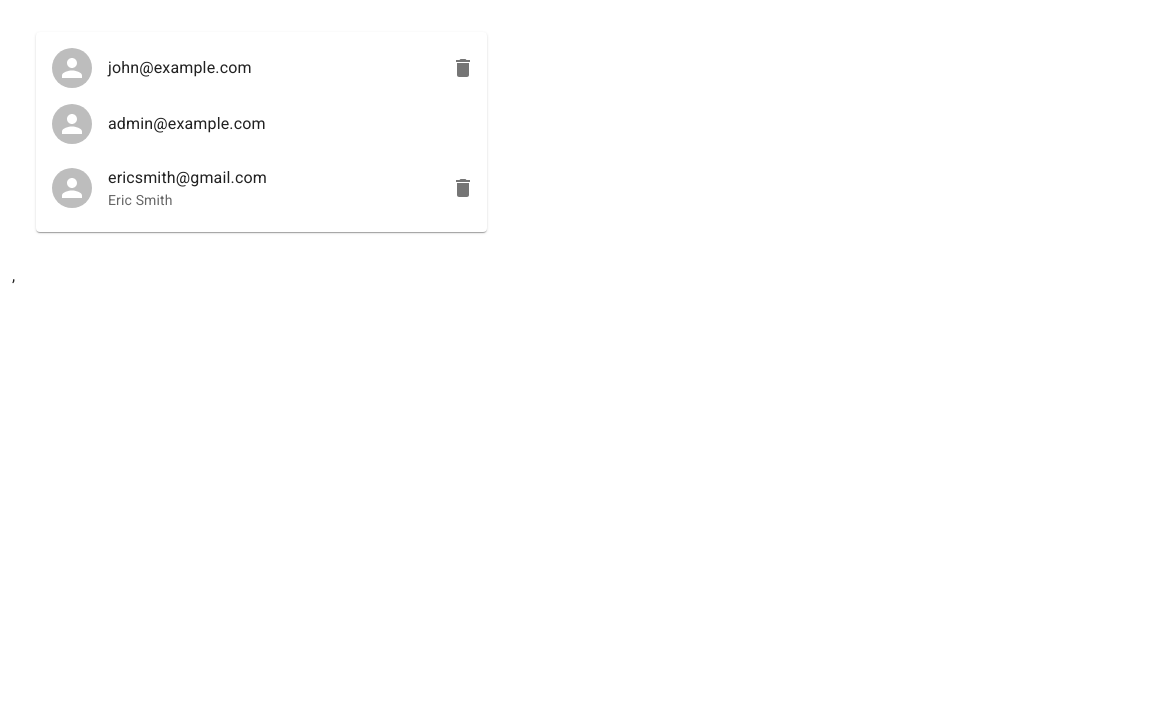
Test case: should update user info in the user list
expect the list is shown: met, box [36,32,487,232]
// select user 2
Click the button with test id "d1ba04b9-cd9f-40fe-8956-8a0198f47884" at x=159, y=188, box [52,168,267,208]
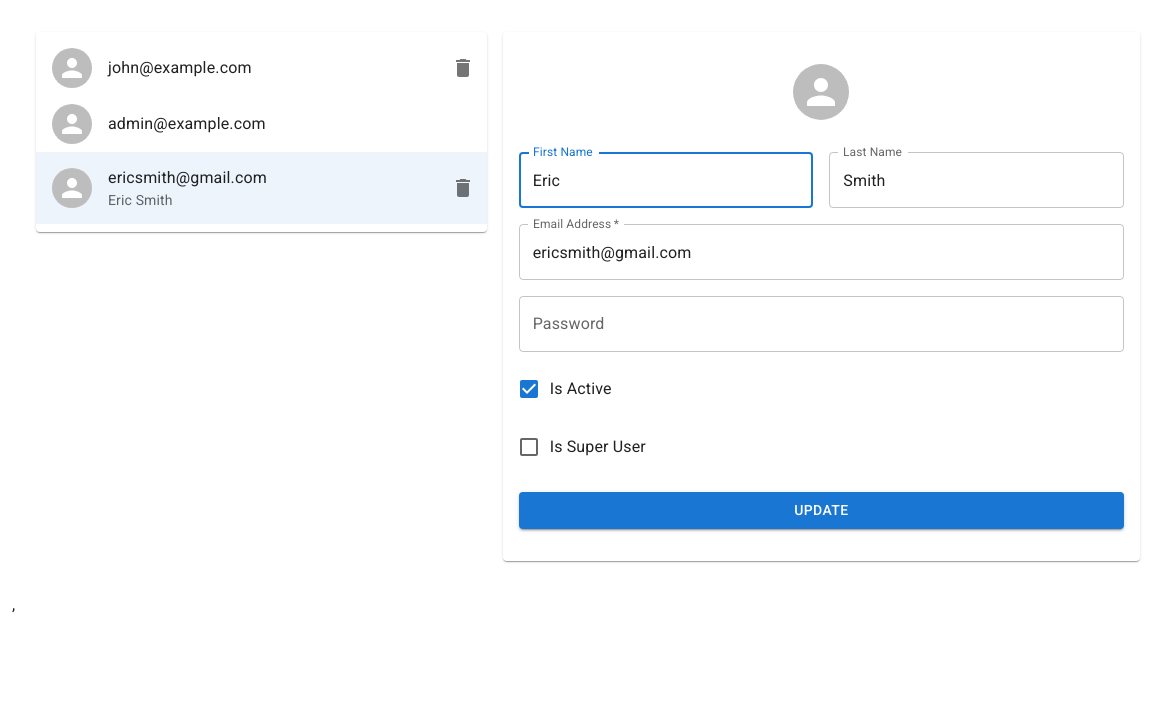
expect the field labelled "First Name" holds "Eric": met
// update its first and last name
Type "Brad" into the field labelled "First Name" at x=666, y=180, box [519,152,813,208]
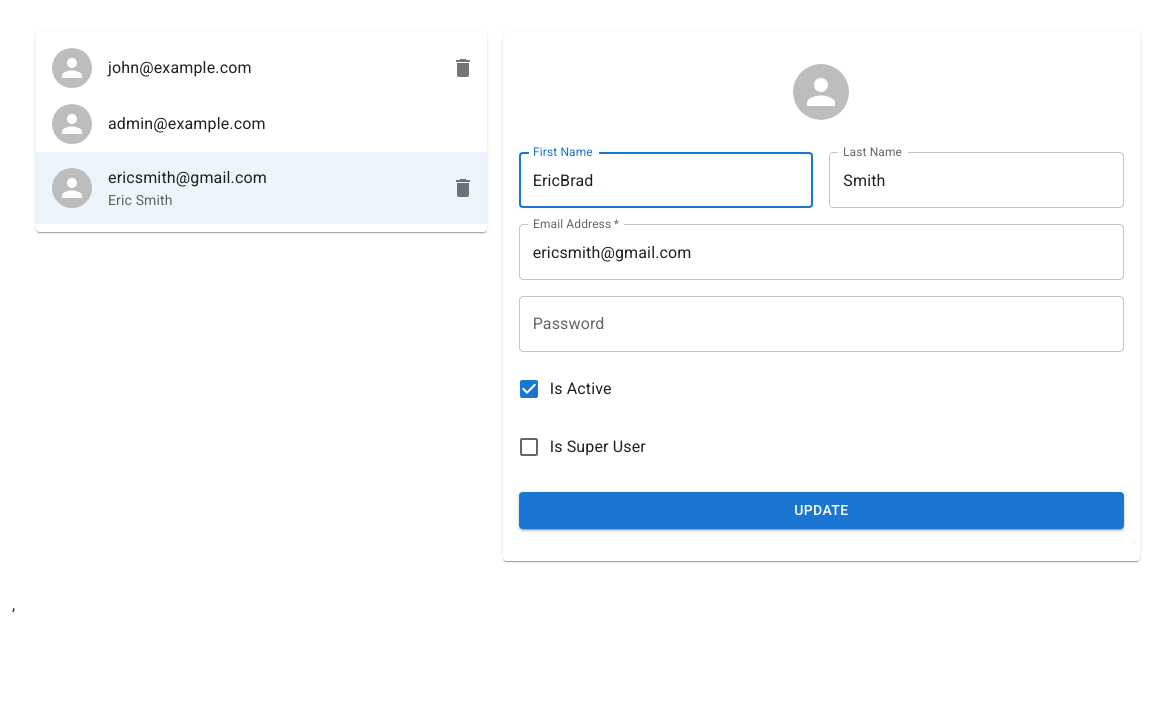
Type "Pitt" into the field labelled "Last Name" at x=977, y=180, box [829,152,1124,208]
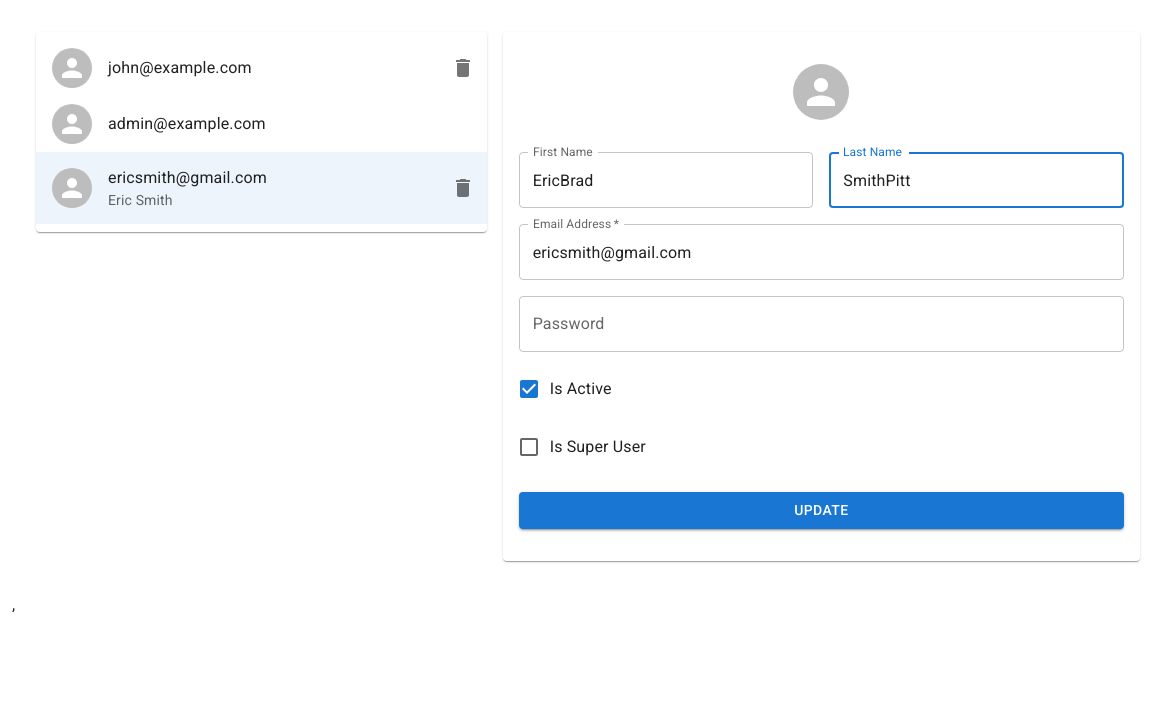
Submit the form with test id "user-profile-form", box [519,152,1124,544]
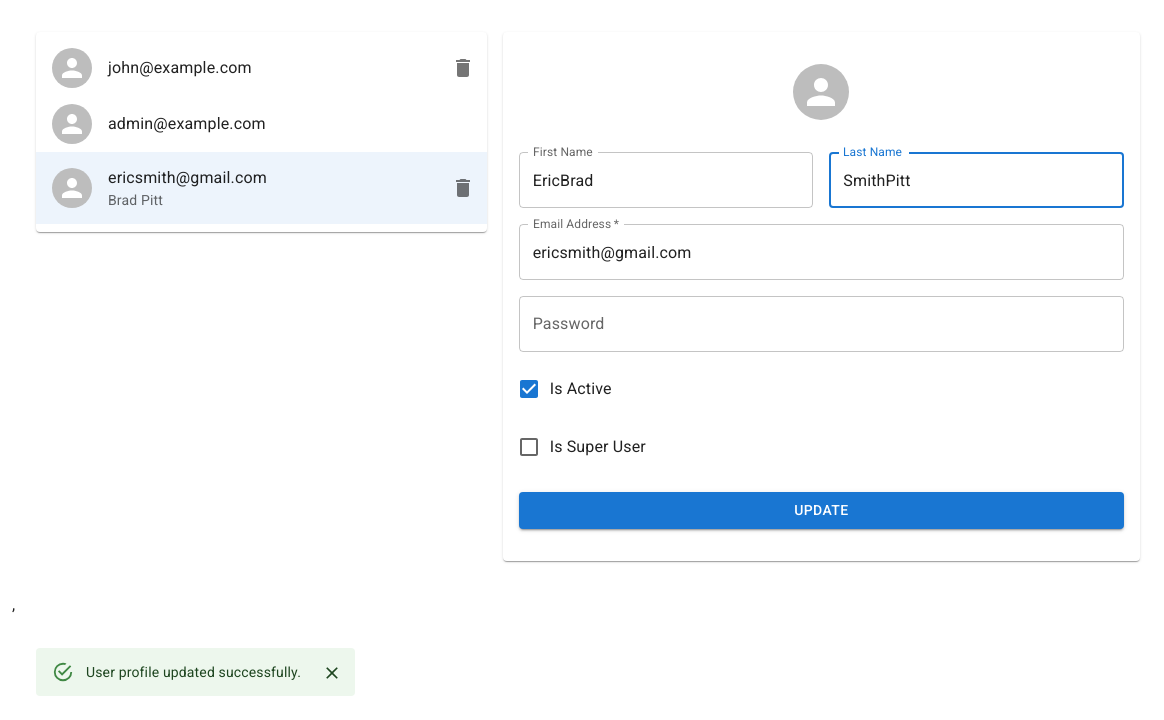
expect the message reads "User profile updated successfully.": met, box [86,664,301,680]
expect the button with test id "d1ba04b9-cd9f-40fe-8956-8a0198f47884" shows "Brad Pitt": met, box [36,152,487,224]
